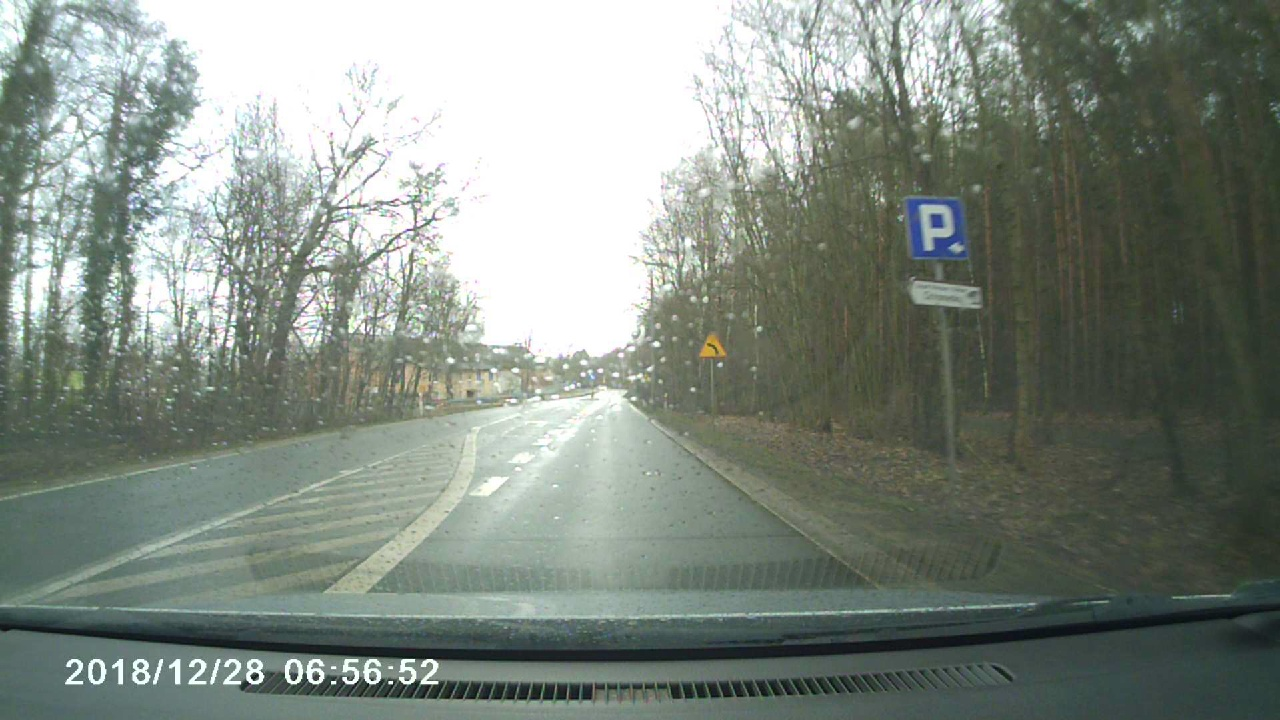A2: (694, 329, 736, 367)
D18: (900, 188, 971, 262)
